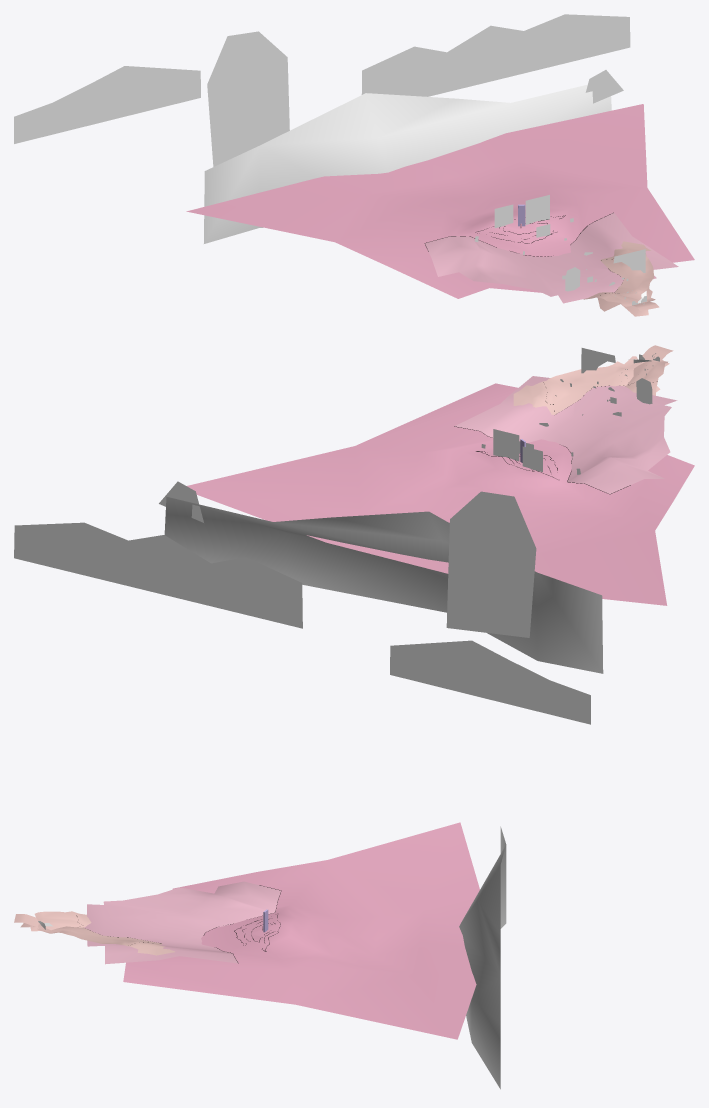
Rendered from landscape2.glb.
3 renders of one model, top to bottom at view 1: azimuth 30°, elevation 25°; view 2: azimuth 150°, elevation 25°; view 3: azimuth 270°, elevation 25°, orthographic. The views are drawn at different scales.
Parts seen in each view (by area): view 1: mountain1, LANDSCAPE_3, LANDSCAPE_2, ghost, LANDSCAPE_1, Animals, tree2; view 2: mountain1, LANDSCAPE_3, LANDSCAPE_2, ghost, LANDSCAPE_1, Animals; view 3: LANDSCAPE_3, LANDSCAPE_2, mountain1, LANDSCAPE_1.
Part boxes in pixels (x1,y1,x2,y2): mountain1: (14, 14, 630, 243); LANDSCAPE_3: (186, 104, 694, 298); LANDSCAPE_2: (425, 213, 678, 303); ghost: (207, 31, 289, 166); LANDSCAPE_1: (583, 241, 659, 316); Animals: (494, 195, 592, 282); tree2: (613, 249, 645, 272); mountain1: (14, 481, 603, 724); LANDSCAPE_3: (187, 383, 694, 605); LANDSCAPE_2: (455, 376, 677, 493); ghost: (446, 491, 536, 637); LANDSCAPE_1: (513, 345, 673, 414); Animals: (493, 397, 616, 471); LANDSCAPE_3: (123, 822, 479, 1039); LANDSCAPE_2: (84, 881, 280, 964); mountain1: (459, 826, 506, 1089); LANDSCAPE_1: (14, 911, 174, 955).
Size of the model in its own units: 133 by 38.61 by 141.
